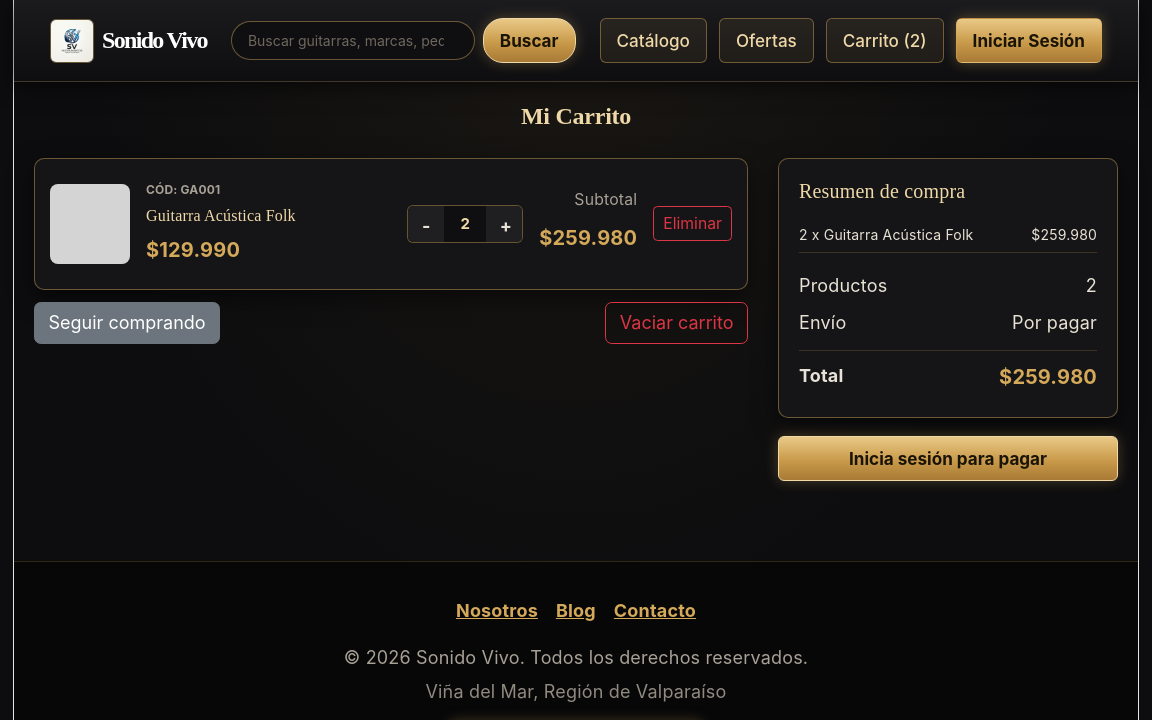
Test: Página Carrito › al vaciar el carrito muestra el aviso de carrito vacío
Step 1. Click the button "Vaciar carrito" → x=677, y=323, box [605,302,748,344]
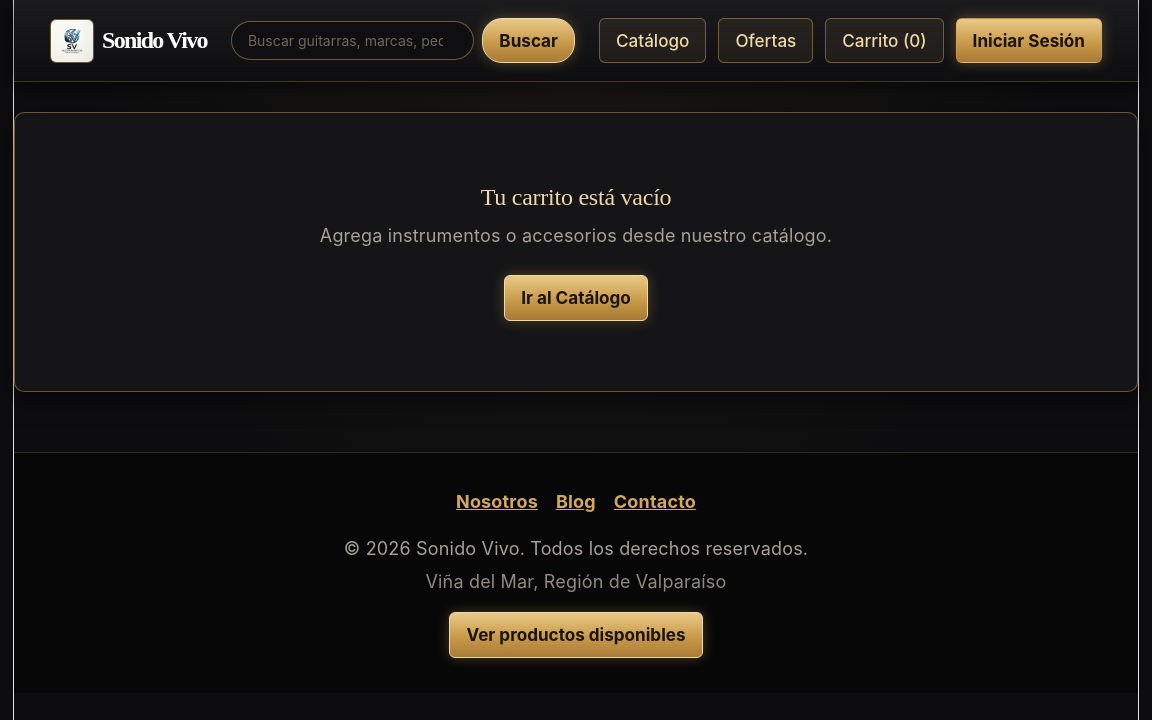
Expected: the heading "Tu carrito está vacío" is shown, [481,184,671,210]
